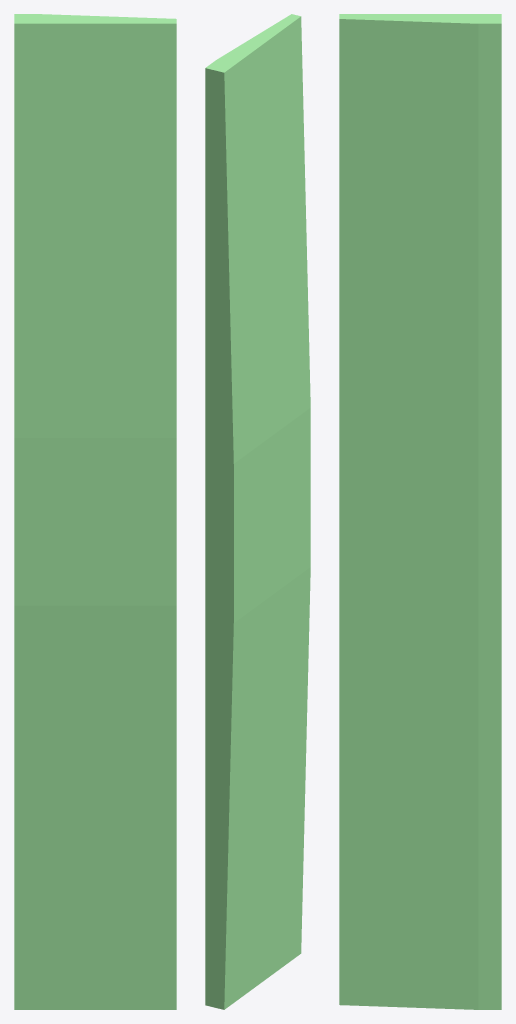
Rendered from dvkr_robot_robot_base_coll_1.dae.
3 views of the same model, side by side, from view 1: azimuth 90°, elevation 25°; view 2: azimuth 150°, elevation 25°; view 3: azimuth 270°, elevation 25° (orthographic). The views are drawn at different scales.
Visible parts, largest first — view 1: Node_0000023514CD72A0; view 2: Node_0000023514CD72A0; view 3: Node_0000023514CD72A0.
Part boxes in pixels (x1,y1,x2,y2): Node_0000023514CD72A0: (14, 14, 176, 1009); Node_0000023514CD72A0: (205, 14, 310, 1009); Node_0000023514CD72A0: (339, 14, 501, 1009).
Bounding box in the file's own units: 0.03 × 0.94 × 0.14.
